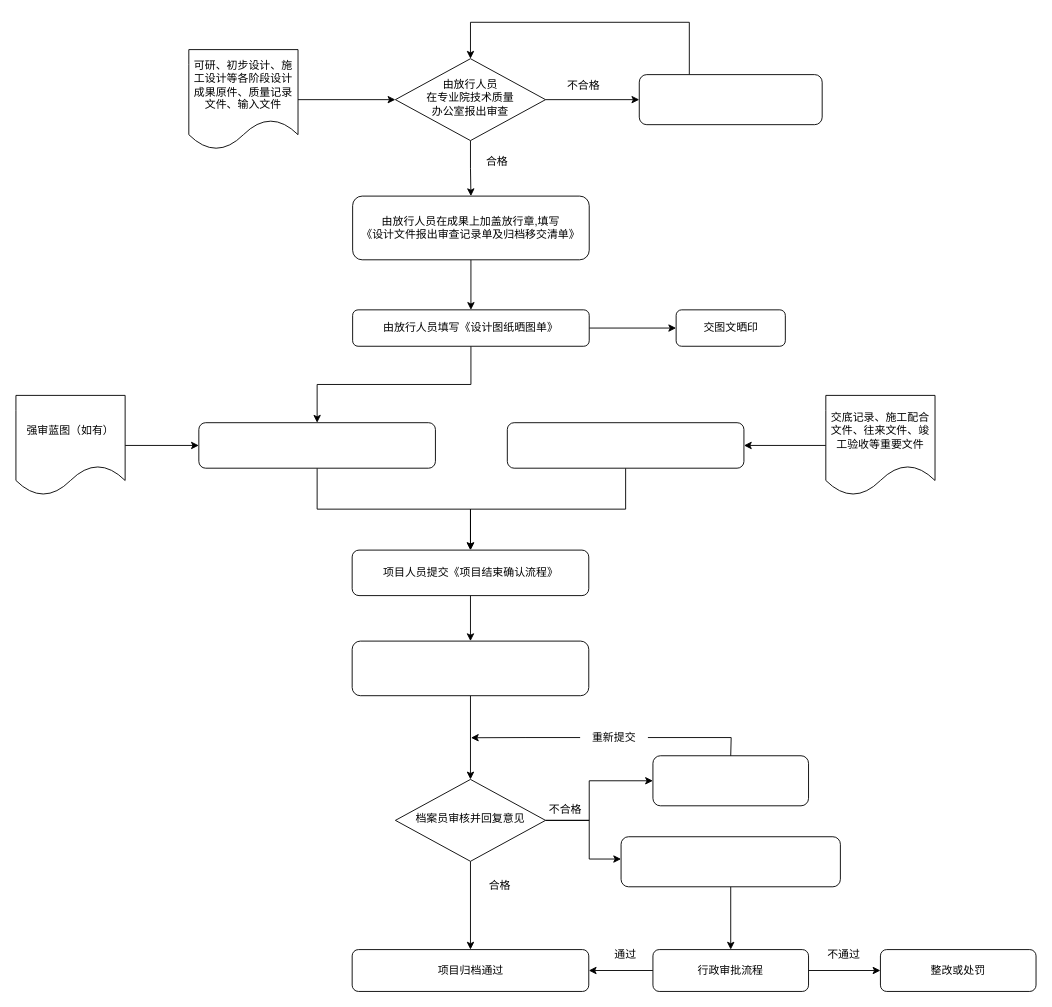
This 1052x1007 diagram has some shape labels left out. Each missing label, with the box of its shape:
放行员整理文件完成向公司档案移交归档: (198, 422, 435, 468)
由相关设计人修改完善， 并由各级确认: (638, 74, 822, 125)
经营管理部审核通过向公司档案部门发起 项目结束确认归档验证流程: (351, 640, 589, 696)
缺失重要文件无法完成归档执行行政审批: (620, 836, 840, 887)
项目人员整理文件完成向公司档案移交归档: (506, 422, 744, 468)
项目人员补充归档并回复流程: (652, 755, 809, 806)
